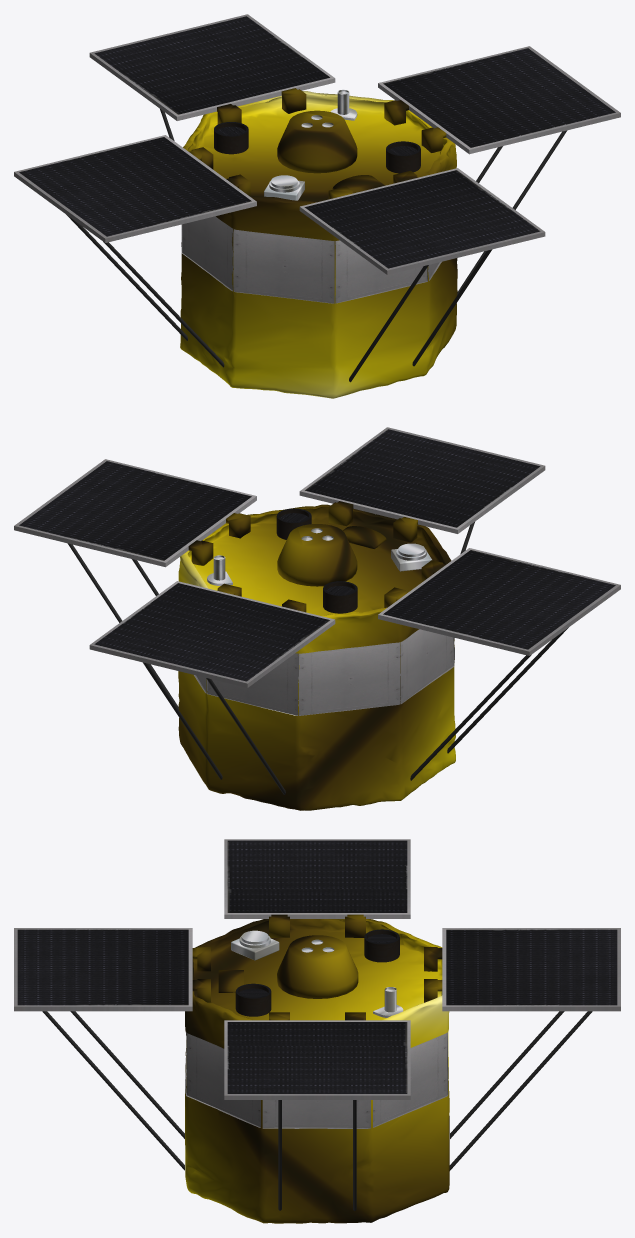
Rendered from satellite_ACIMS_lod0.glb.
3 views of the same model, one above another, from view 1: azimuth 30°, elevation 25°; view 2: azimuth 150°, elevation 25°; view 3: azimuth 270°, elevation 25° (orthographic).
Visible parts, largest first — view 1: shiny_panel, foil_gold, tex_01, black_krinkle; view 2: shiny_panel, foil_gold, tex_01, black_krinkle; view 3: shiny_panel, foil_gold, tex_01, black_krinkle.
Part boxes in pixels (x1,y1,x2,y2): shiny_panel: [19, 16, 615, 268]; foil_gold: [180, 88, 457, 398]; tex_01: [14, 14, 620, 303]; black_krinkle: [66, 109, 567, 382]; shiny_panel: [19, 429, 615, 681]; foil_gold: [178, 501, 455, 810]; tex_01: [14, 427, 620, 715]; black_krinkle: [67, 522, 568, 794]; shiny_panel: [17, 840, 617, 1093]; foil_gold: [185, 914, 449, 1223]; tex_01: [14, 839, 620, 1128]; black_krinkle: [42, 1011, 592, 1210].
Bounding box in the file's own units: 4.13 × 1.69 × 4.13.
Materials: 4 (3 with a texture image).
